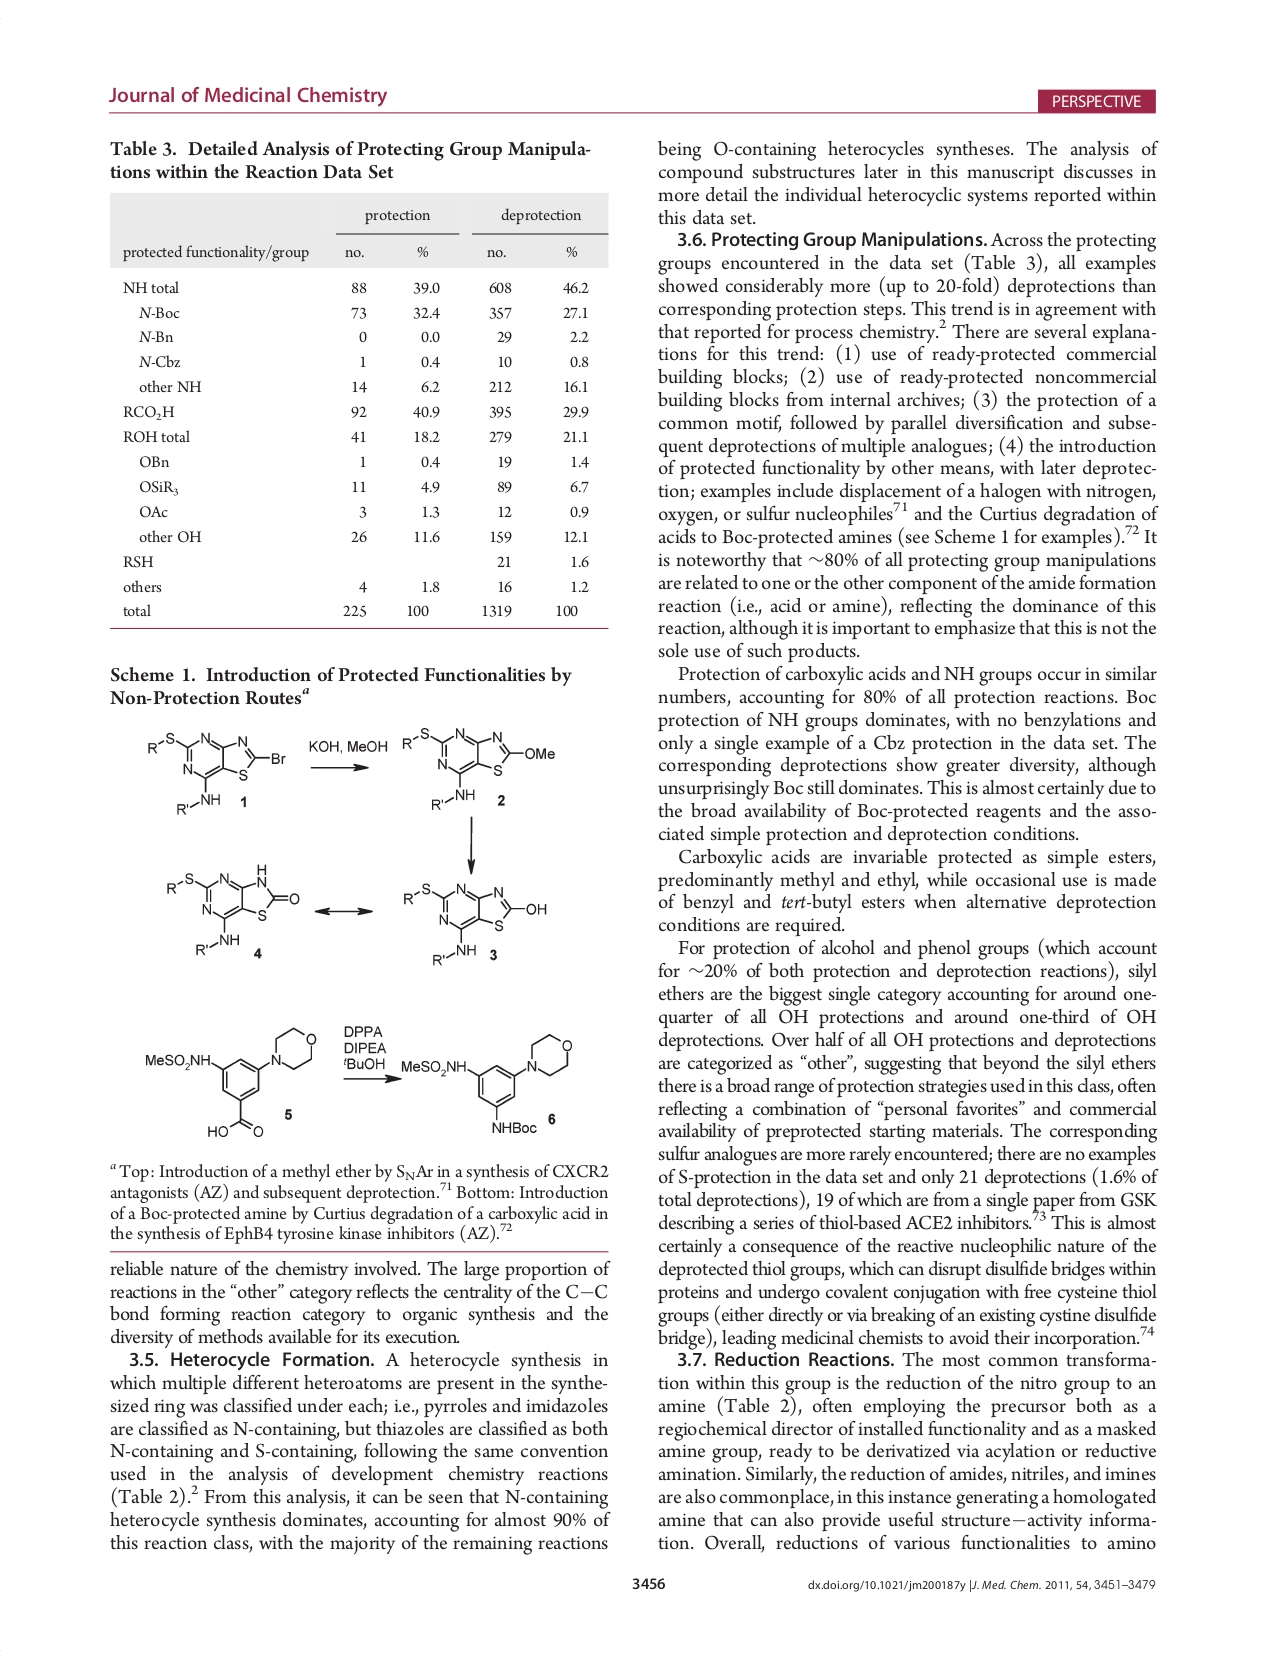exist_molecular: (144, 1025, 318, 1140), (400, 1031, 576, 1137), (398, 725, 559, 813), (402, 878, 553, 969), (164, 860, 301, 958), (148, 730, 287, 814)
